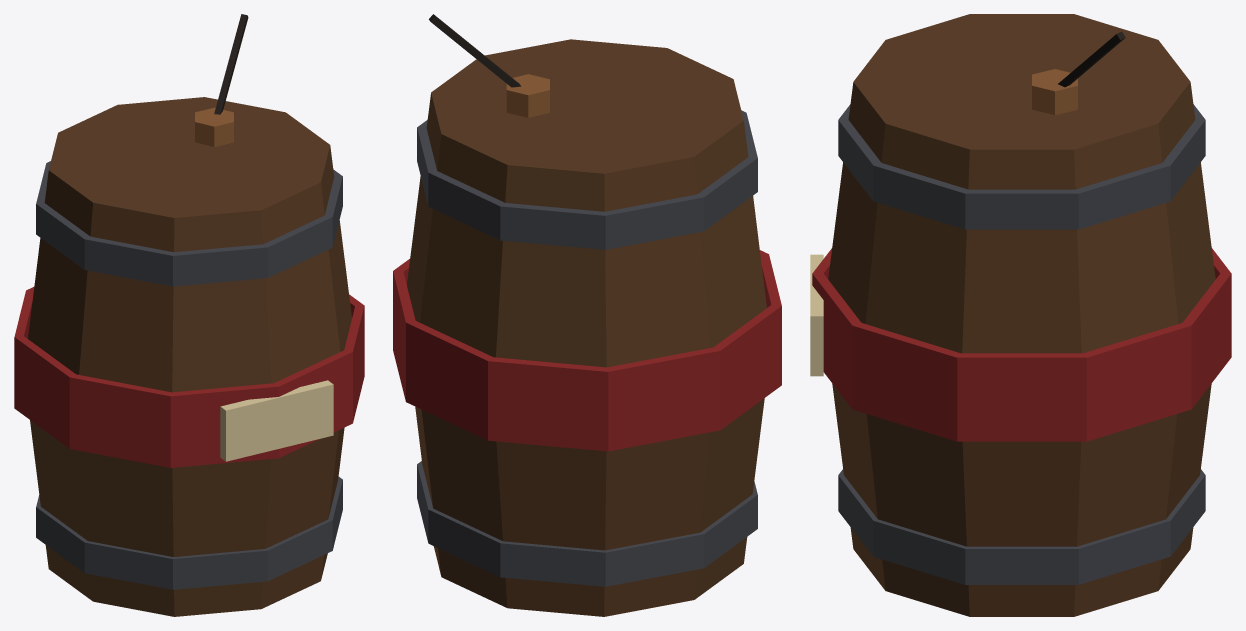
The model's file is mine_barrel_powder.glb.
The picture shows the model from 3 angles, left to right: view 1: azimuth 30°, elevation 25°; view 2: azimuth 150°, elevation 25°; view 3: azimuth 270°, elevation 25°; orthographic projection. The views are drawn at different scales.
Visible parts, largest first — view 1: mine_barrel_powder; view 2: mine_barrel_powder; view 3: mine_barrel_powder.
Boxes of the visible parts, x1,y1,x2,y2 form: mine_barrel_powder: [14, 14, 364, 616]; mine_barrel_powder: [393, 14, 781, 616]; mine_barrel_powder: [810, 14, 1231, 616].
Bounding box in the file's own units: 0.603 × 0.9544 × 0.637.
